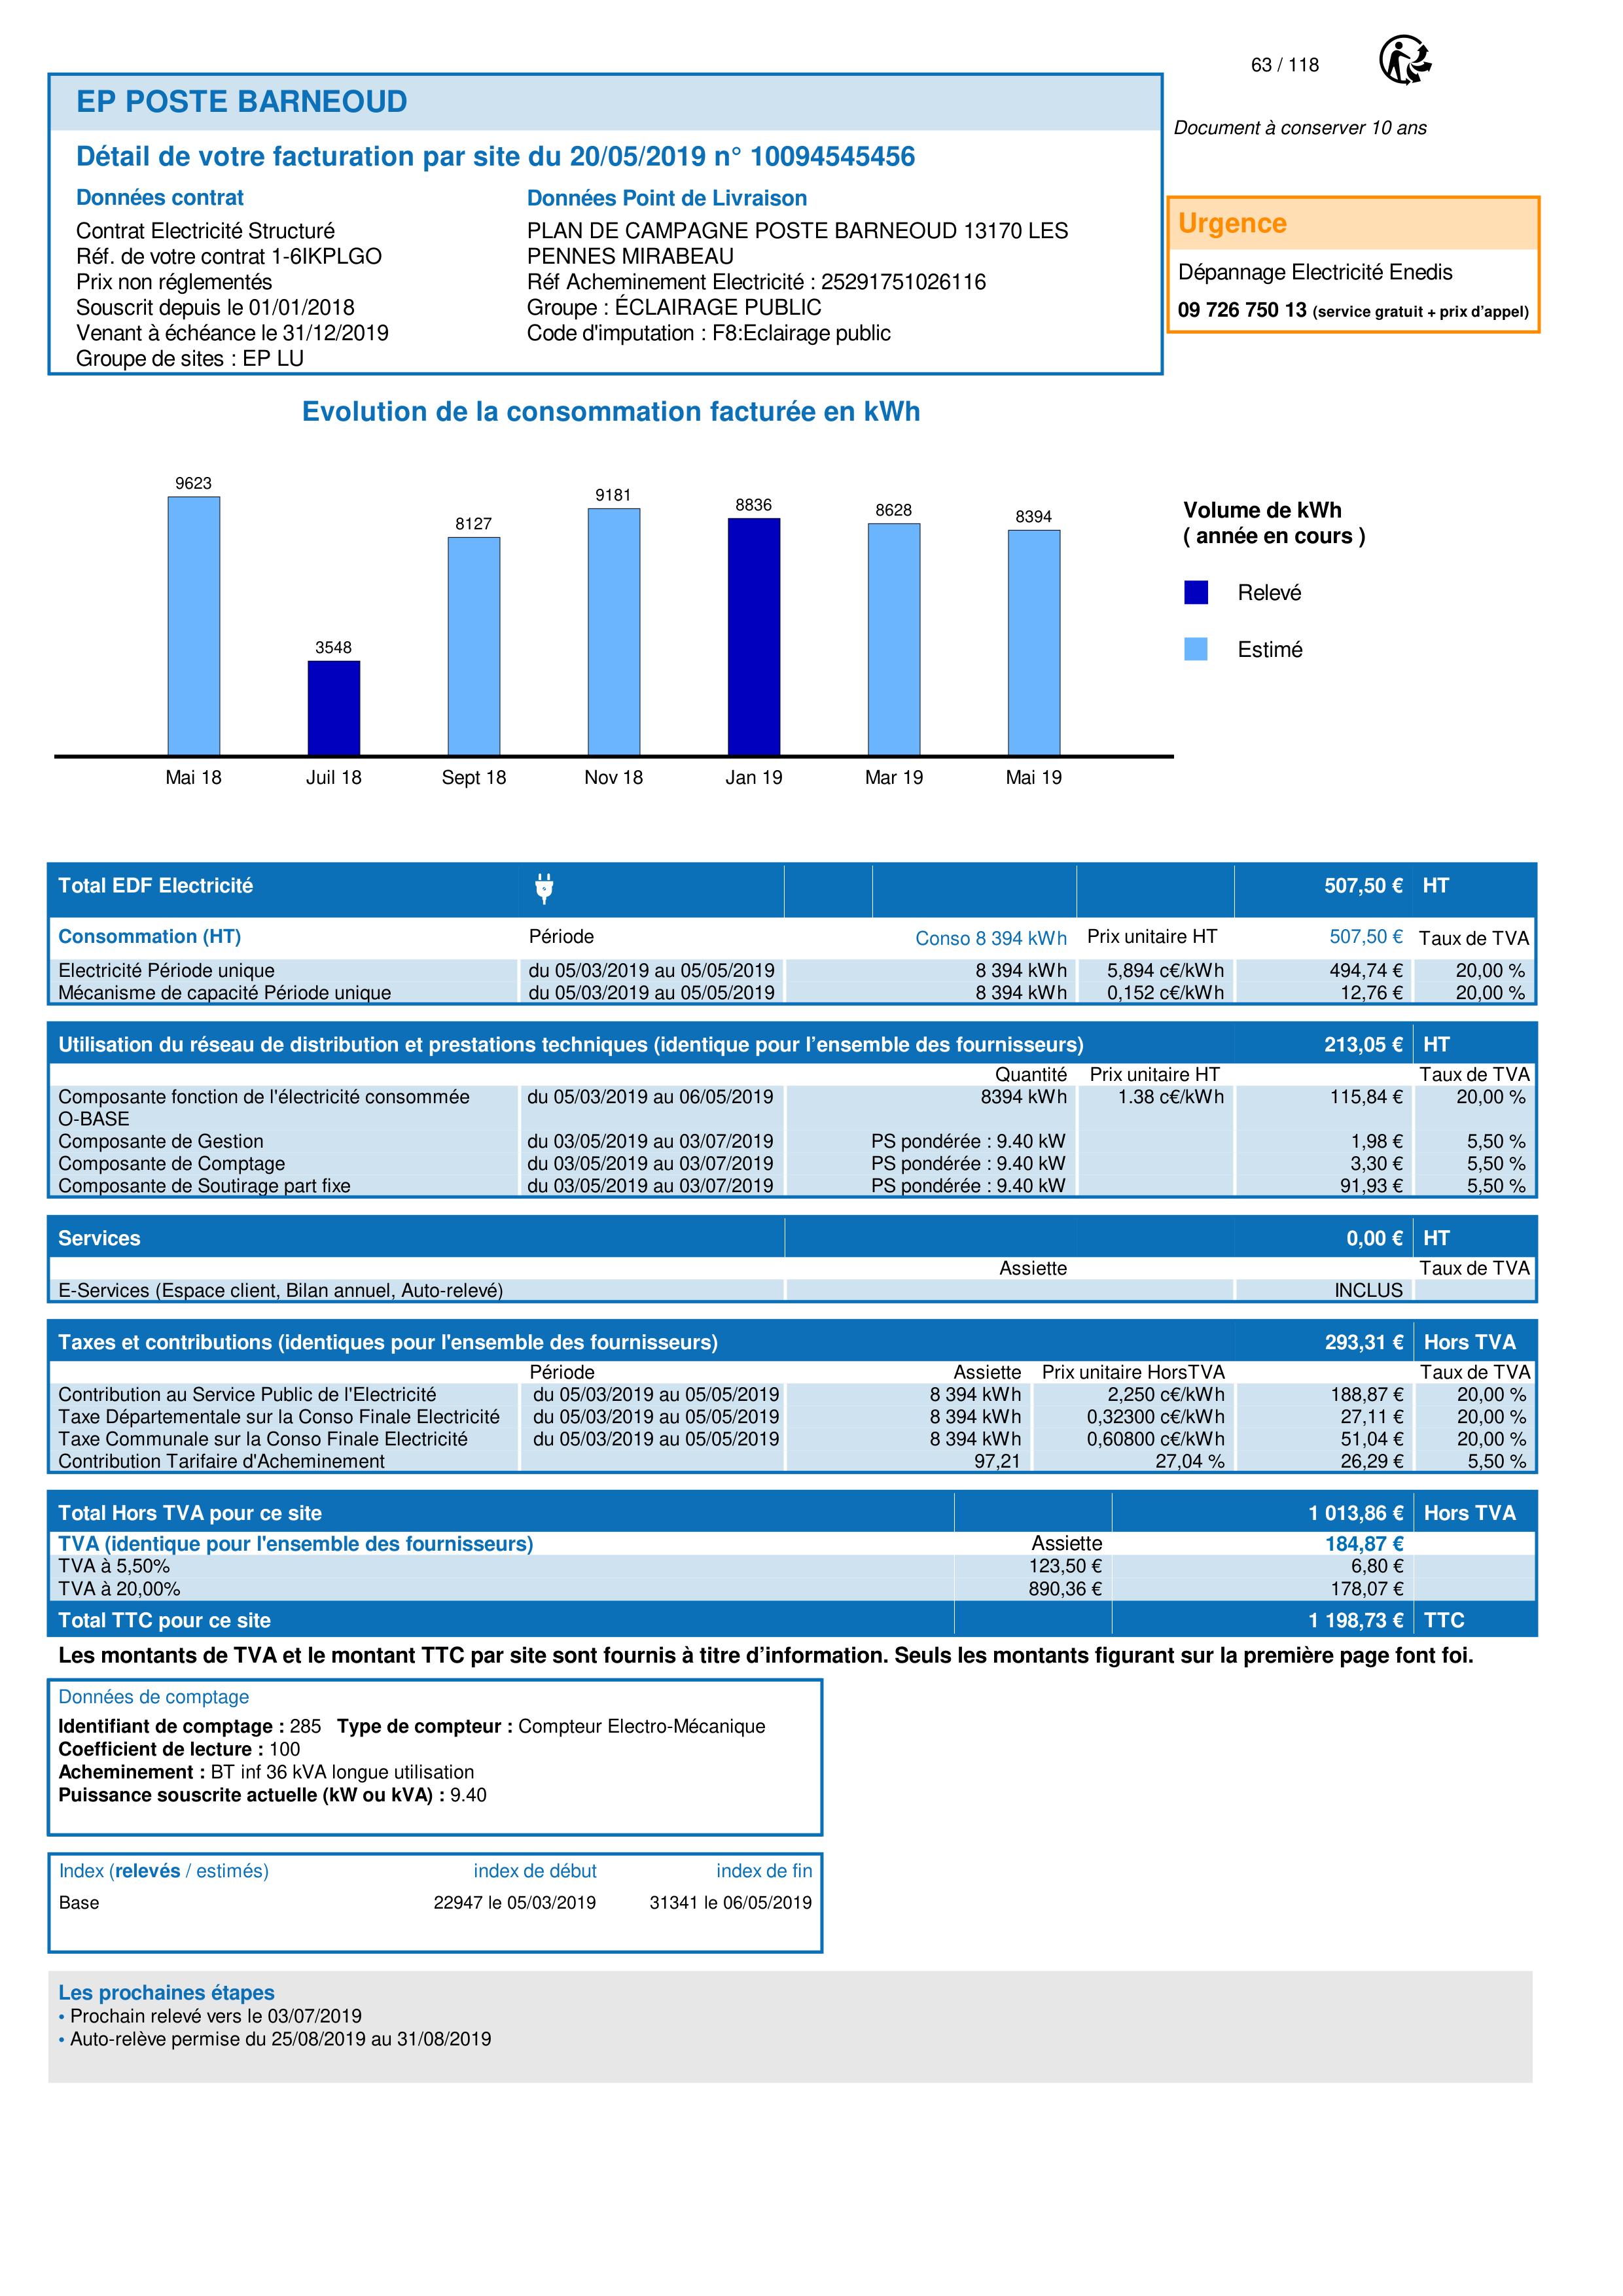area: (48, 1854, 823, 1953)
type_indicator: (46, 1854, 282, 1890)
